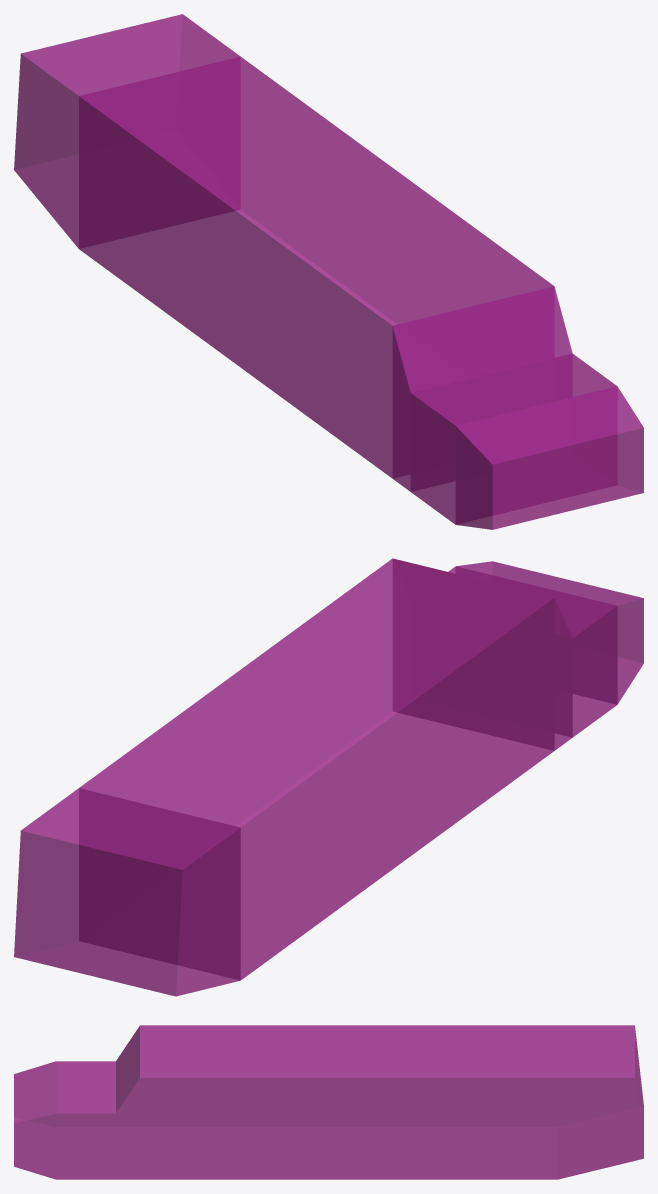
The model's file is SM_Veh_Limousine_01_Collision.fbx.
3 renders of one model, top to bottom at view 1: azimuth 30°, elevation 25°; view 2: azimuth 150°, elevation 25°; view 3: azimuth 270°, elevation 25°, orthographic. The views are drawn at different scales.
Parts seen in each view (by area): view 1: SM_Veh_Limousine_01_Collision; view 2: SM_Veh_Limousine_01_Collision; view 3: SM_Veh_Limousine_01_Collision.
Boxes of the visible parts, left/top/right/bottom form: SM_Veh_Limousine_01_Collision: left=14, top=14, right=643, bottom=529; SM_Veh_Limousine_01_Collision: left=14, top=558, right=643, bottom=996; SM_Veh_Limousine_01_Collision: left=14, top=1025, right=643, bottom=1179.
Size of the model in its own units: 203 by 183 by 1027.
